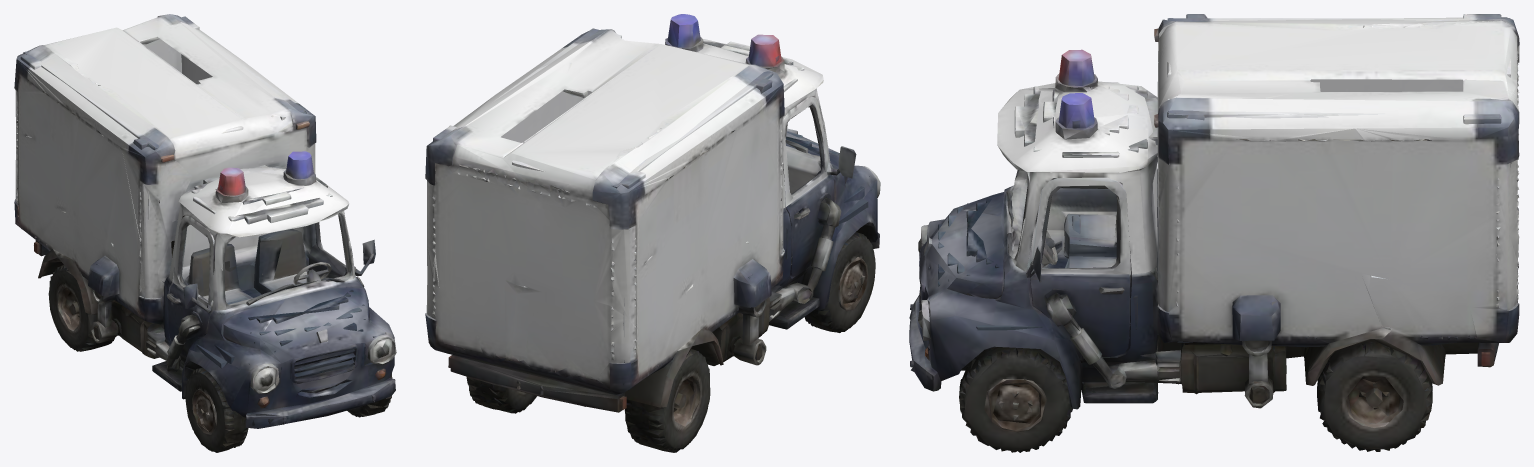
File: van_policia.glb
3 views of the same model, side by side, from view 1: azimuth 30°, elevation 25°; view 2: azimuth 150°, elevation 25°; view 3: azimuth 270°, elevation 25° (orthographic). The views are drawn at different scales.
Visible parts, largest first — view 1: van_policia; view 2: van_policia; view 3: van_policia.
Boxes of the visible parts, left/top/right/bottom form: van_policia: left=14, top=14, right=396, bottom=452; van_policia: left=425, top=14, right=880, bottom=452; van_policia: left=909, top=14, right=1519, bottom=452.
Bounding box in the file's own units: 2.77 × 3.41 × 5.5.
1 material, 1 textured.
